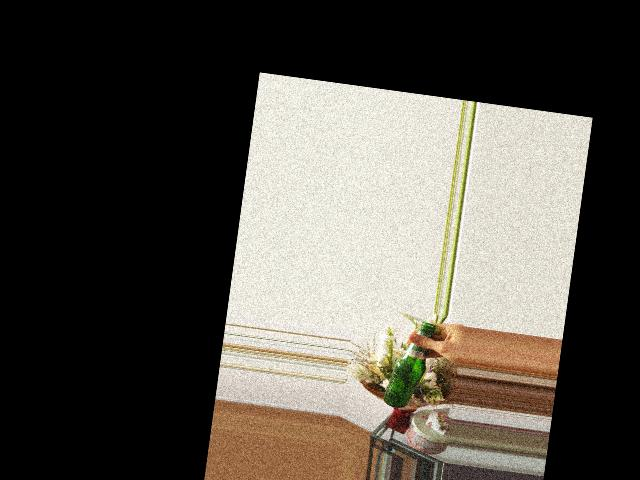beer: (382, 318, 432, 411)
